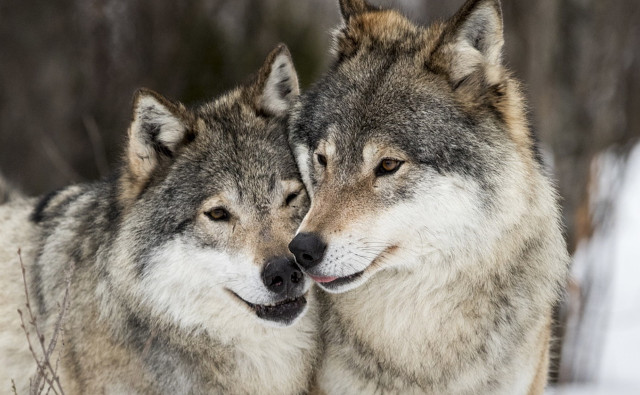wolf: (2, 40, 335, 395), (282, 8, 576, 395)
